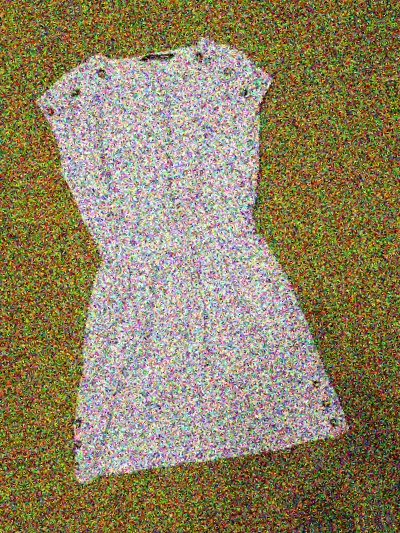Dress: (1, 22, 341, 509)
